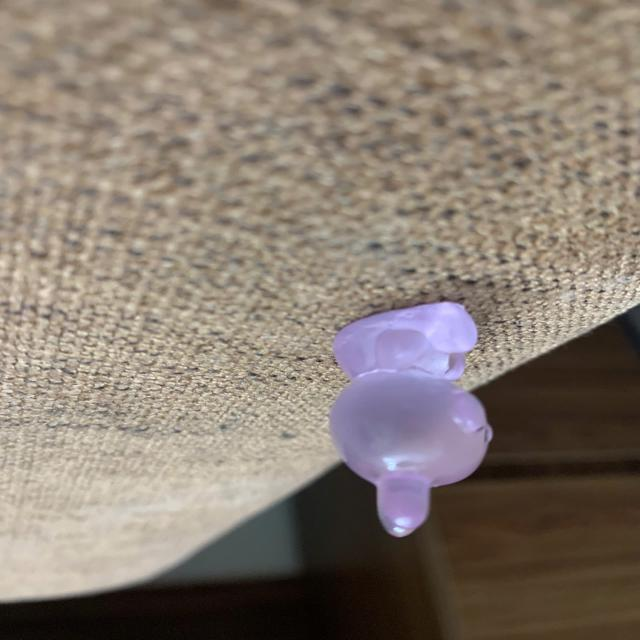Teddy: (328, 301, 494, 539)
